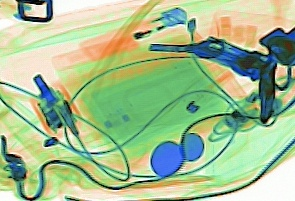lighter: (77, 3, 188, 61)
